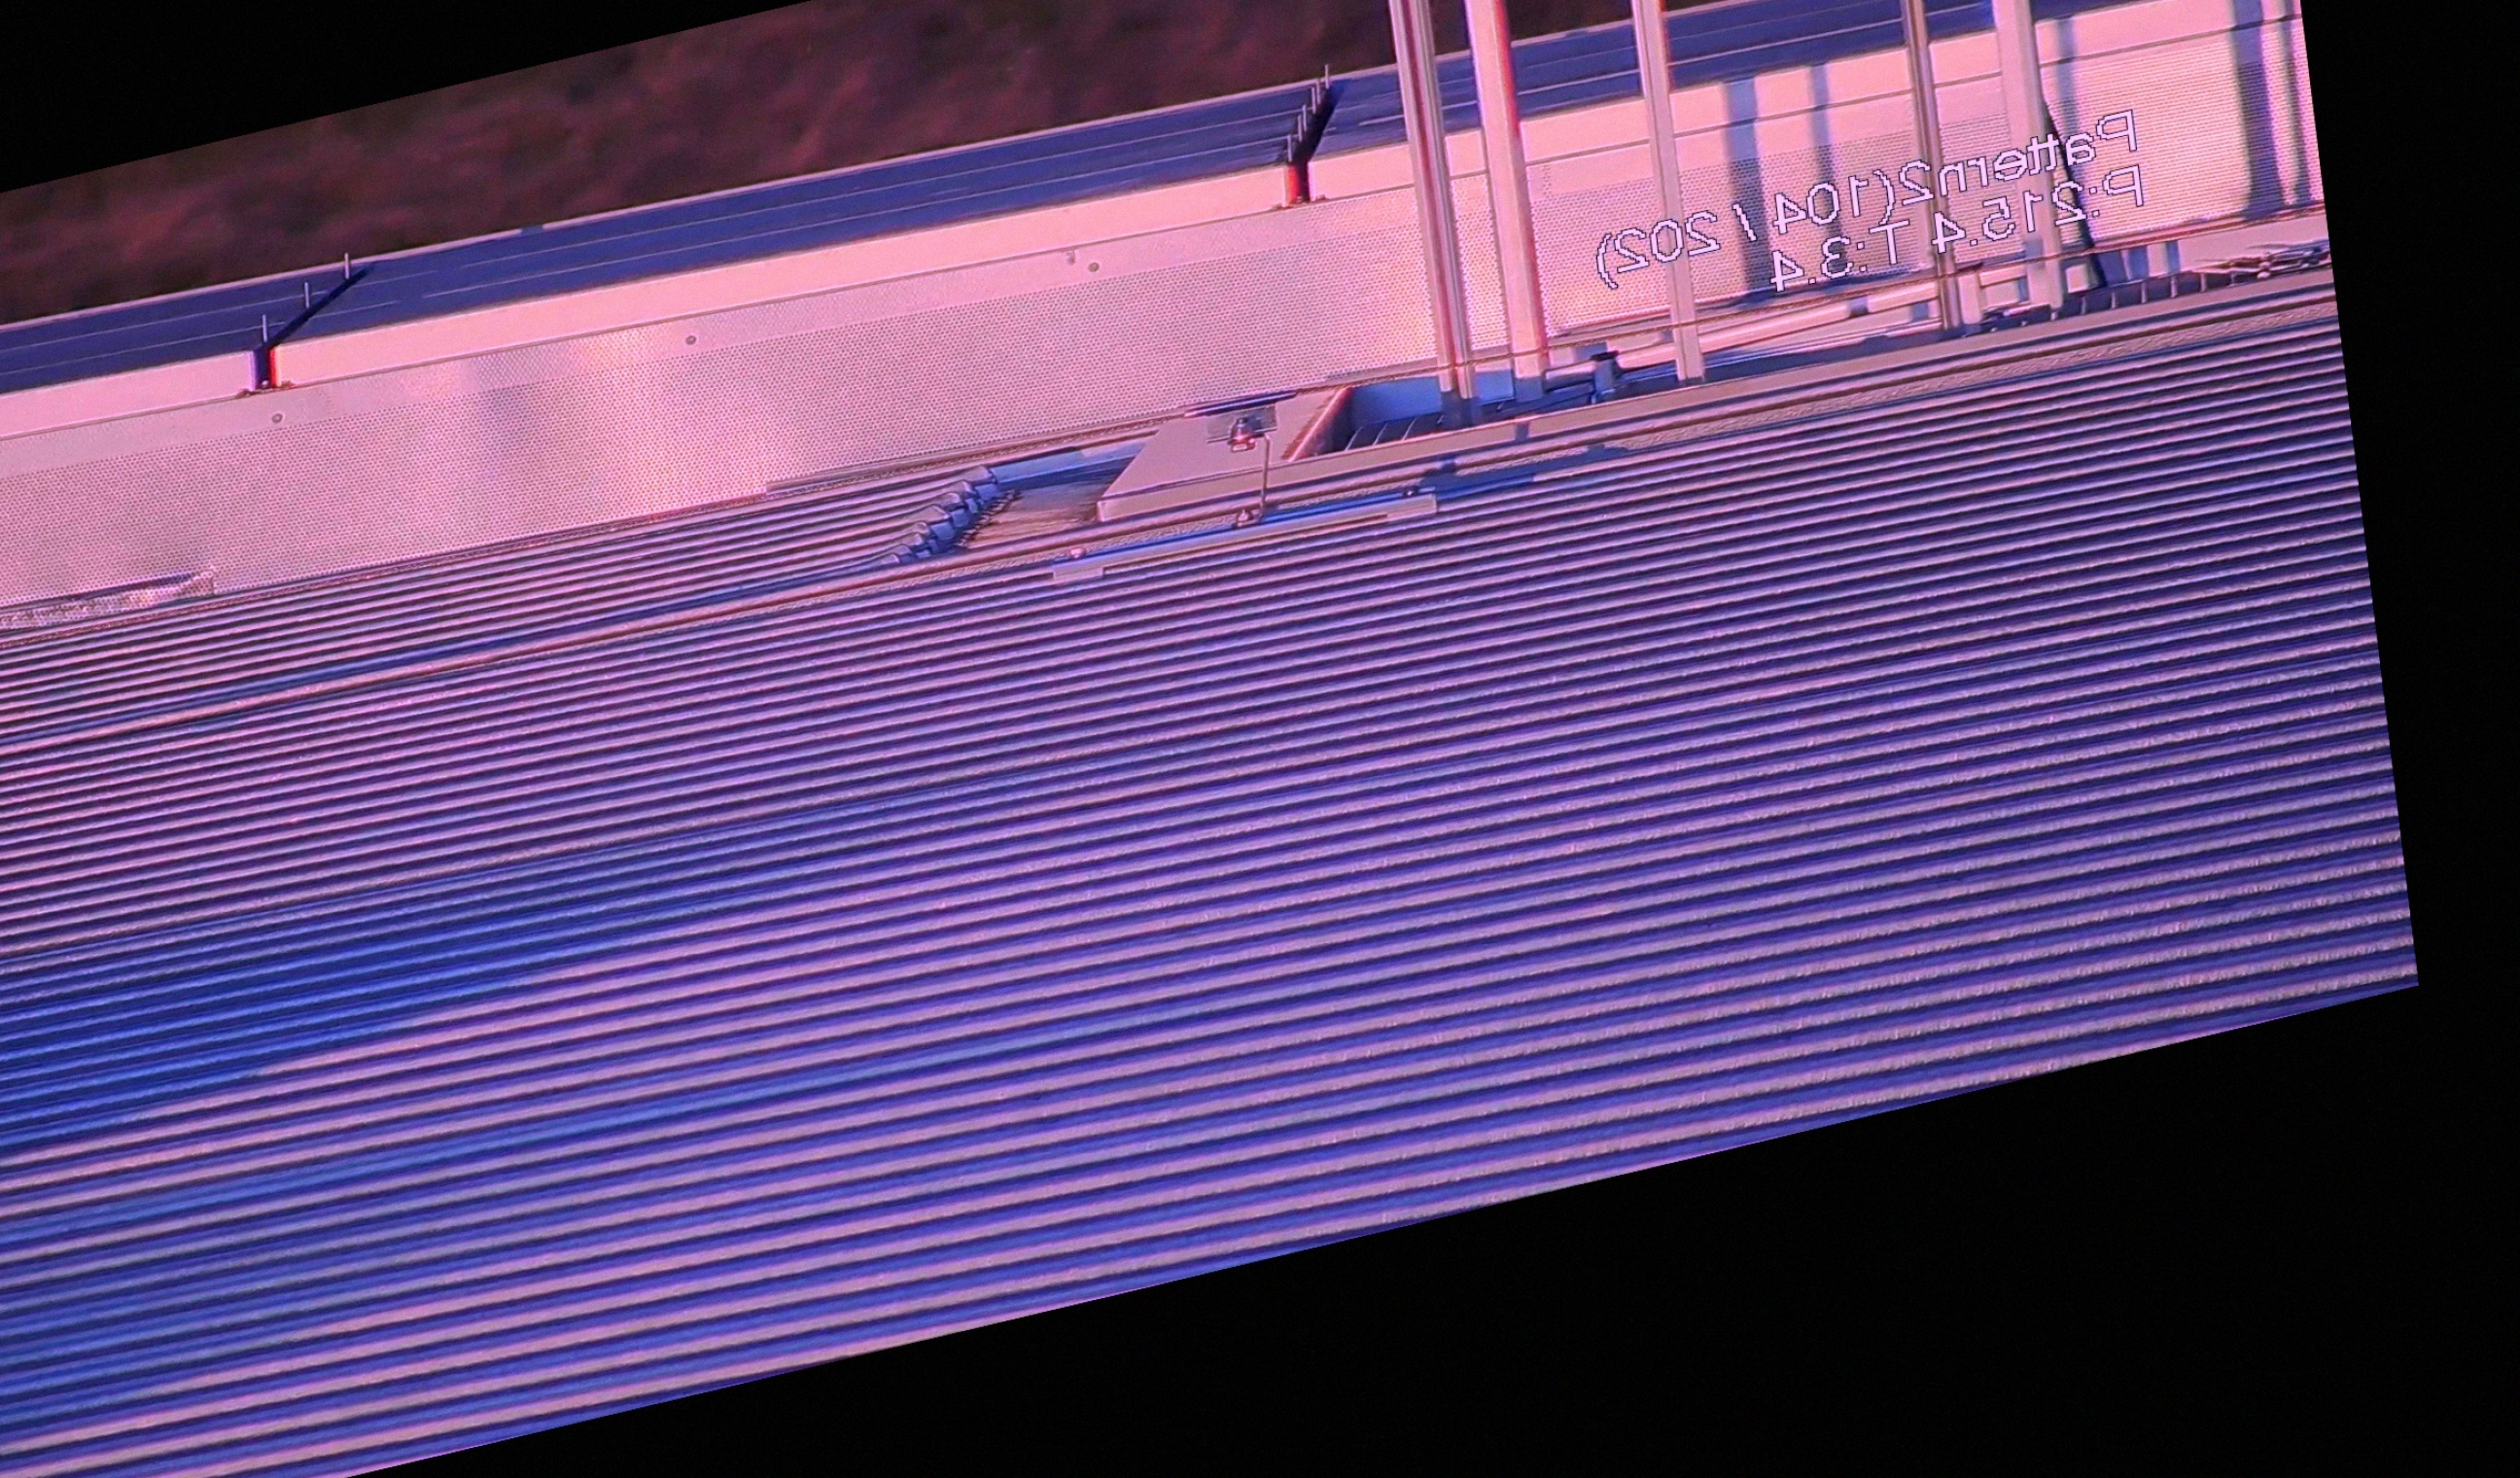Other: (1257, 60, 1372, 218)
